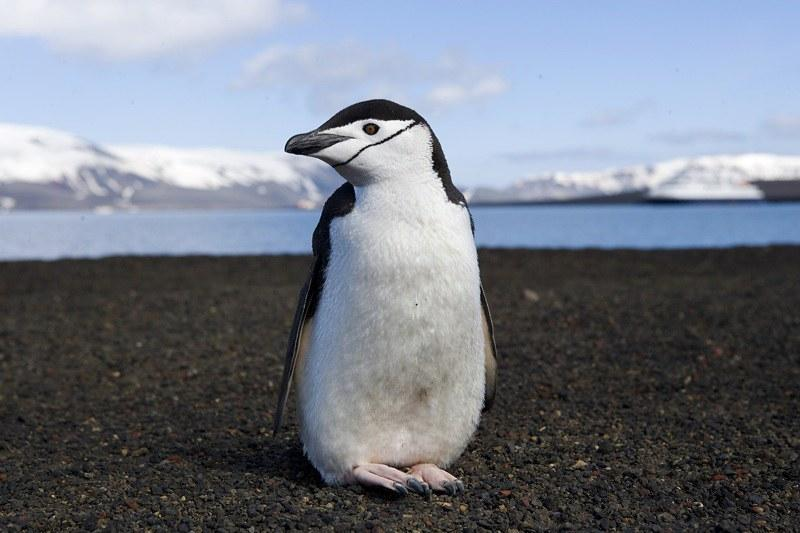chinstrap: (208, 76, 533, 525)
